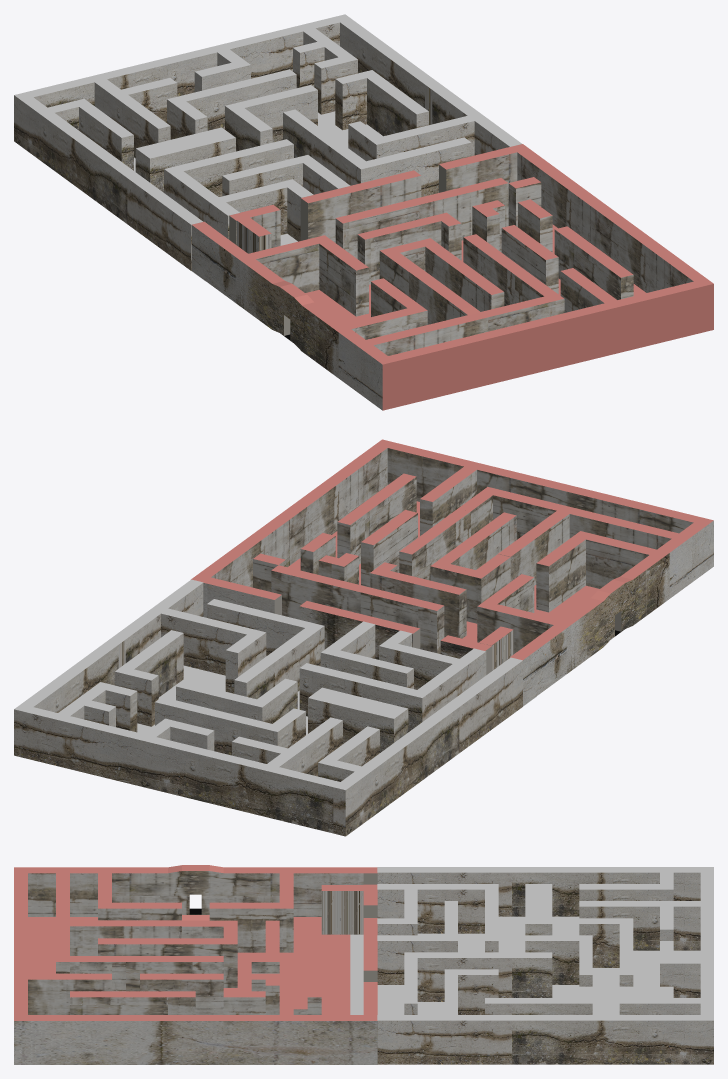
File: maze2.fbx
3 views of the same model, one above another, from view 1: azimuth 30°, elevation 25°; view 2: azimuth 150°, elevation 25°; view 3: azimuth 270°, elevation 25° (orthographic). The views are drawn at different scales.
Parts seen in each view (by area): view 1: Plane, Plane.001; view 2: Plane.001, Plane; view 3: Plane, Plane.001.
Part boxes in pixels (box(x1,y1,x2,y2)): Plane: box(191, 144, 713, 410); Plane.001: box(14, 14, 521, 281); Plane.001: box(14, 579, 536, 836); Plane: box(191, 439, 713, 705); Plane: box(14, 865, 377, 1064); Plane.001: box(350, 867, 713, 1064).
Bounding box in the file's own units: 3004 × 419 × 5775.
